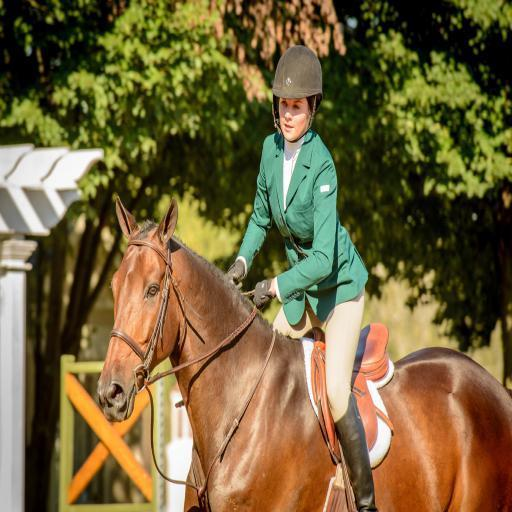horse: (95, 193, 512, 512)
